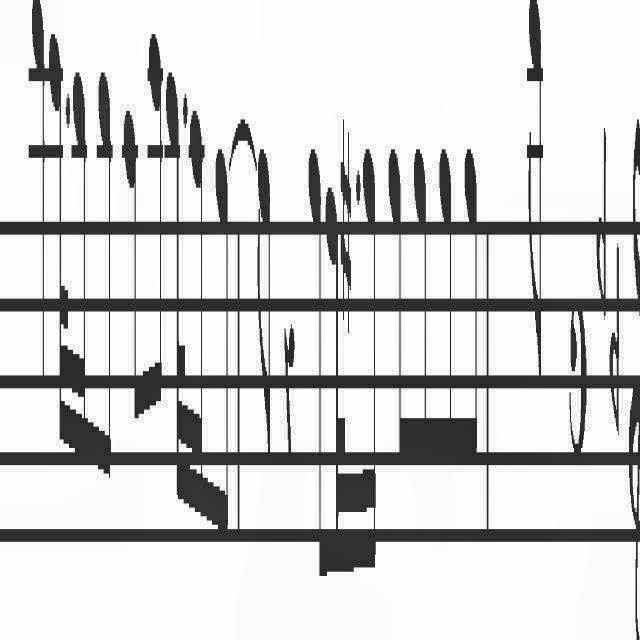Bass-clef: (628, 106, 640, 640)
Bemol: (608, 240, 620, 448), (596, 116, 608, 320)
Diez: (340, 114, 352, 330)
Eighth-note: (94, 59, 115, 488), (123, 84, 145, 453), (524, 0, 543, 396), (308, 140, 324, 592), (148, 24, 164, 436), (213, 147, 229, 549), (413, 134, 431, 473), (256, 144, 274, 472), (438, 136, 454, 474), (464, 142, 480, 466), (388, 137, 402, 471)
Eighth-rest: (283, 310, 295, 458)
Quarter-note: (29, 0, 47, 384)
Sixteenth-note: (189, 103, 207, 542), (72, 66, 90, 494), (361, 132, 377, 600)
